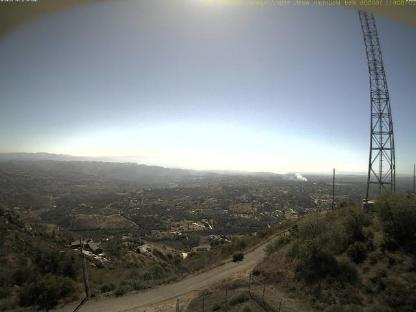smoke: (280, 168, 310, 182)
